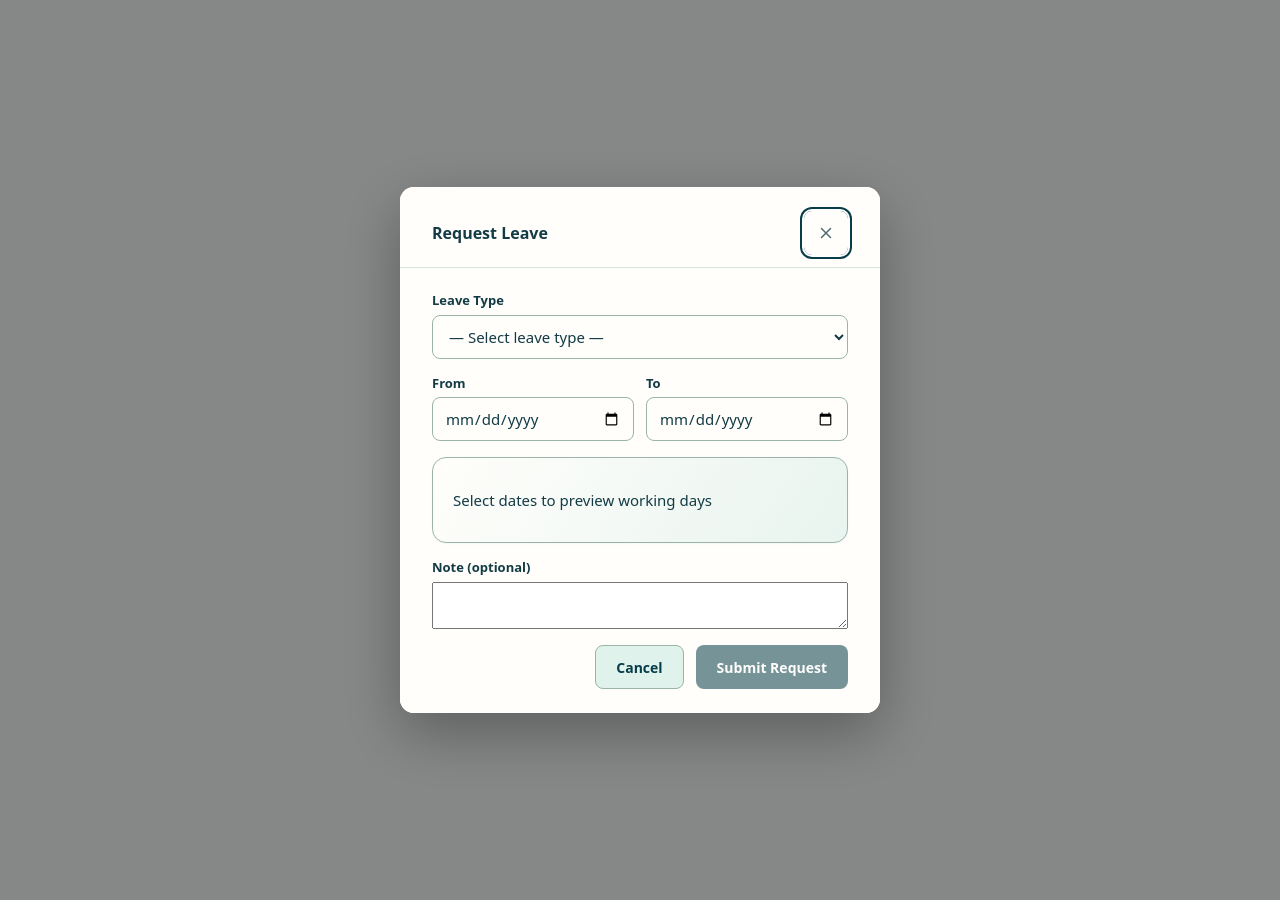
RequestLeaveModal Coastal ATDD — Story 11.1 › [P0] preview region mounts WorkingDayExplainer (shared contract testids)
Type "2026-08-10" into the date field with test id "leave-from-date". click: (533, 419)
box: [432,397,634,441]
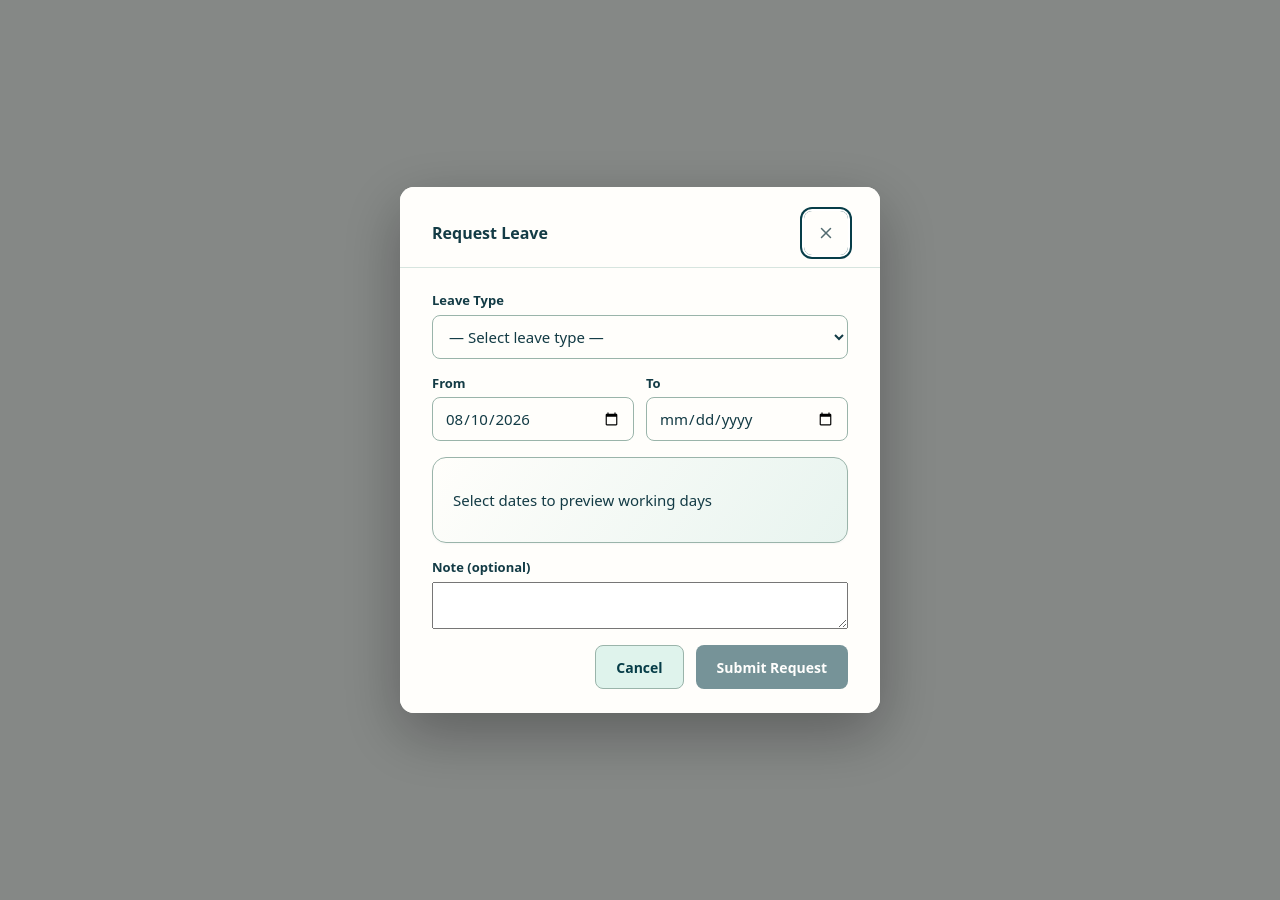
Type "2026-08-14" into the date field with test id "leave-to-date". click: (747, 419)
box: [646,397,848,441]
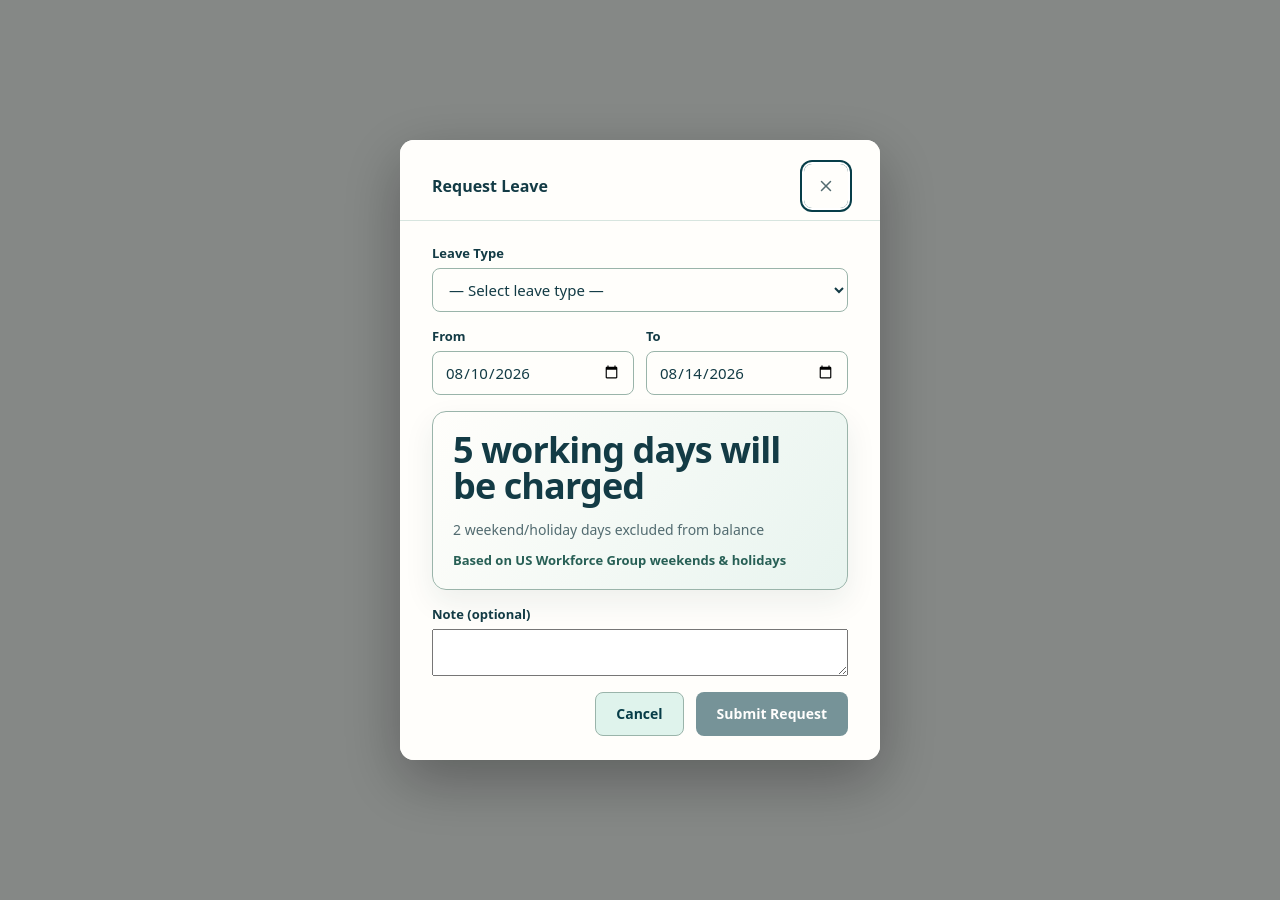
Result: the message with test id "working-day-result" reads "5 working days will be charged" at [453,425,780,510]
Result: the text with test id "working-day-policy" shows "US" at [453,551,786,569]
